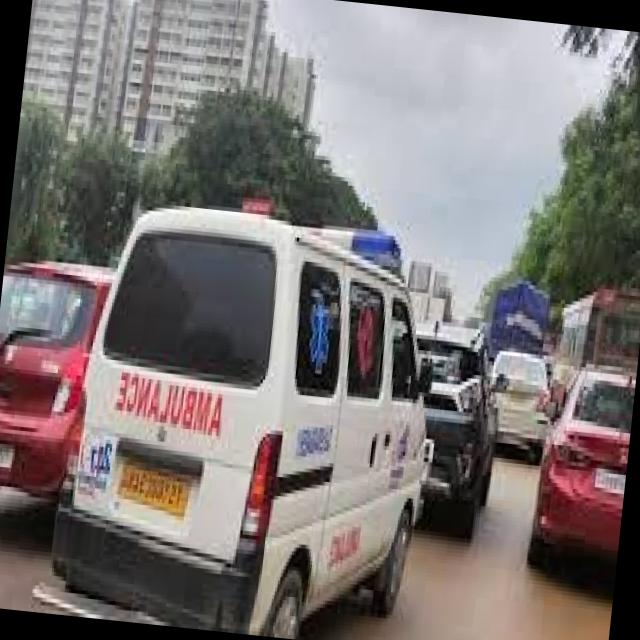ambulance: (49, 199, 458, 639)
